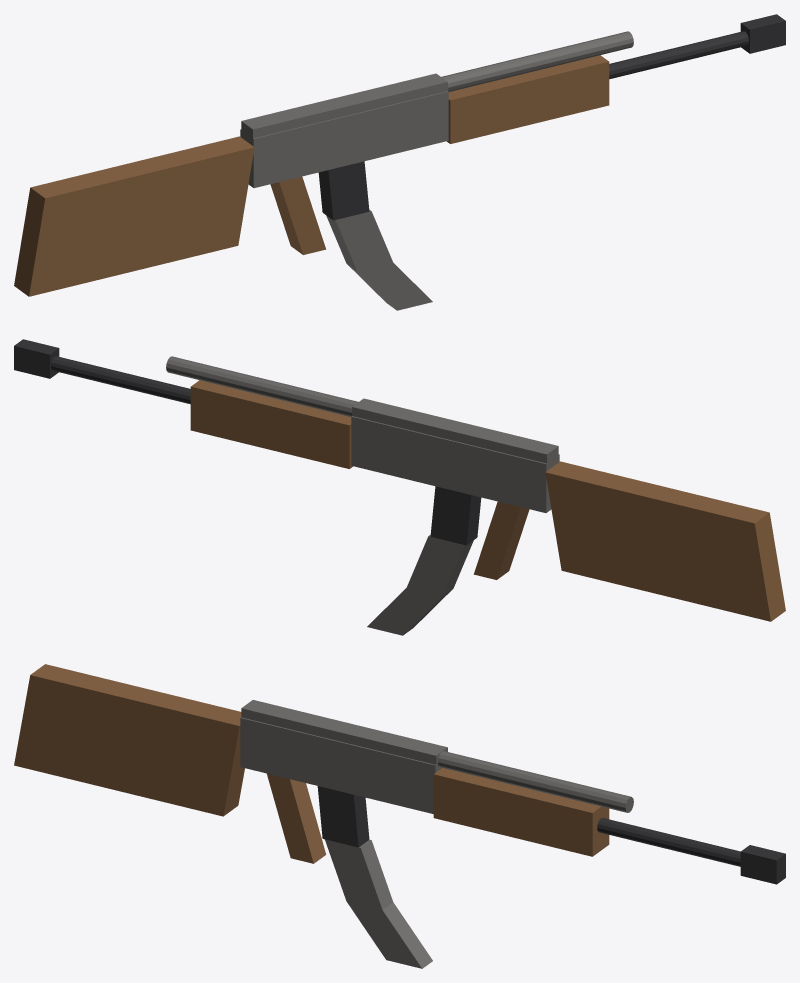
The model's file is gun_kalash_c3.glb.
3 renders of one model, top to bottom at view 1: azimuth 30°, elevation 25°; view 2: azimuth 150°, elevation 25°; view 3: azimuth 330°, elevation 25°, orthographic.
Parts seen in each view (by area): view 1: stock, receiver, handguard, cover, gastube, grip, magazine_1, magazine_0, barrel, magazine_2, brake; view 2: stock, receiver, handguard, cover, gastube, grip, magazine_1, magazine_0, barrel, magazine_2, brake; view 3: stock, receiver, handguard, cover, gastube, grip, magazine_1, magazine_2, magazine_0, barrel, brake.
Boxes of the visible parts, bbox=[...] form: stock: bbox=[14, 136, 254, 296]; receiver: bbox=[240, 91, 448, 187]; handguard: bbox=[447, 55, 609, 143]; cover: bbox=[241, 73, 447, 138]; gastube: bbox=[441, 31, 633, 91]; grip: bbox=[270, 176, 326, 254]; magazine_1: bbox=[326, 210, 392, 271]; magazine_0: bbox=[318, 161, 369, 220]; barrel: bbox=[609, 31, 748, 79]; magazine_2: bbox=[347, 262, 432, 310]; brake: bbox=[740, 14, 785, 53]; stock: bbox=[545, 461, 785, 621]; receiver: bbox=[351, 416, 559, 512]; handguard: bbox=[190, 380, 352, 468]; cover: bbox=[352, 398, 558, 463]; gastube: bbox=[166, 356, 358, 416]; grip: bbox=[473, 501, 529, 579]; magazine_1: bbox=[407, 535, 473, 596]; magazine_0: bbox=[430, 486, 481, 545]; barrel: bbox=[51, 356, 190, 404]; magazine_2: bbox=[367, 587, 452, 635]; brake: bbox=[14, 339, 59, 378]; stock: bbox=[14, 664, 244, 816]; receiver: bbox=[240, 717, 442, 813]; handguard: bbox=[433, 768, 609, 856]; cover: bbox=[241, 700, 447, 764]; gastube: bbox=[438, 751, 633, 812]; grip: bbox=[267, 773, 326, 863]; magazine_1: bbox=[325, 839, 392, 909]; magazine_2: bbox=[346, 901, 432, 968]; magazine_0: bbox=[317, 786, 369, 847]; barrel: bbox=[597, 818, 740, 866]; brake: bbox=[740, 845, 785, 884].
Size of the model in its own units: 1.05 by 0.287 by 0.04.
